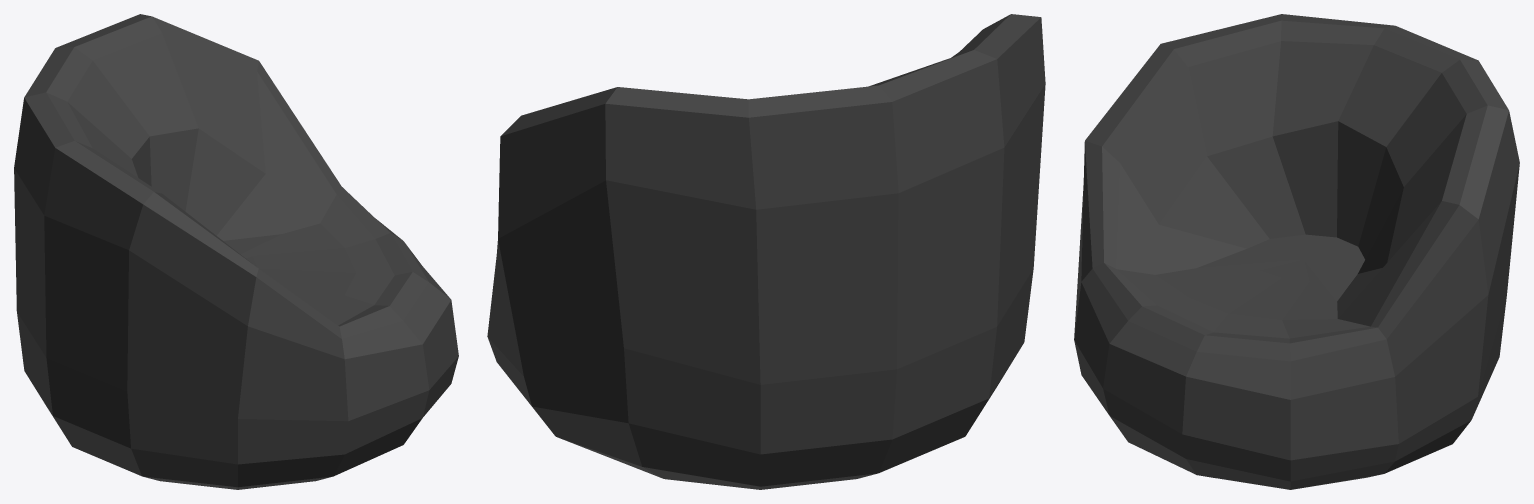
Rendered from SaccoChairV3Gray.fbx.
The picture shows the model from 3 angles, left to right: view 1: azimuth 30°, elevation 25°; view 2: azimuth 150°, elevation 25°; view 3: azimuth 270°, elevation 25°; orthographic projection. The views are drawn at different scales.
Parts seen in each view (by area): view 1: SaccoChairV3Gray; view 2: SaccoChairV3Gray; view 3: SaccoChairV3Gray.
Boxes of the visible parts, left/top/right/bottom form: SaccoChairV3Gray: left=14, top=14, right=458, bottom=489; SaccoChairV3Gray: left=487, top=14, right=1045, bottom=489; SaccoChairV3Gray: left=1074, top=14, right=1519, bottom=489.
Size of the model in its own units: 110 by 90.61 by 112.
